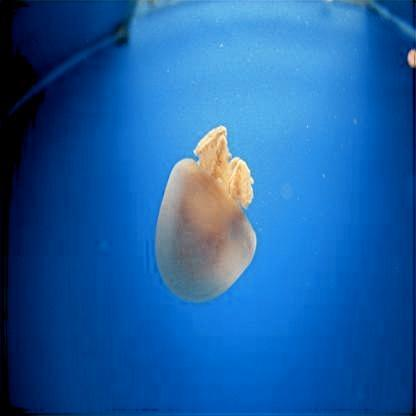Handstand: (153, 126, 258, 304)
